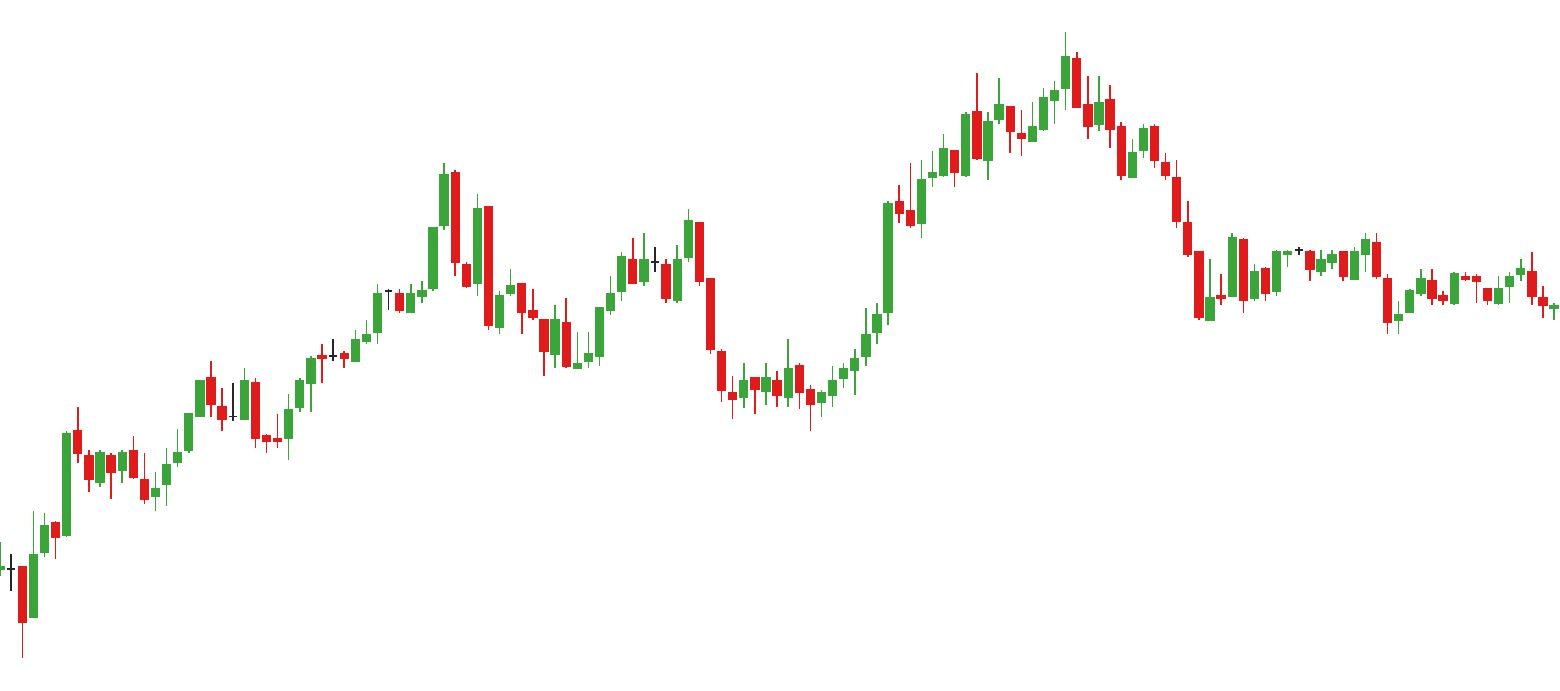sell: (970, 26, 1085, 139)
